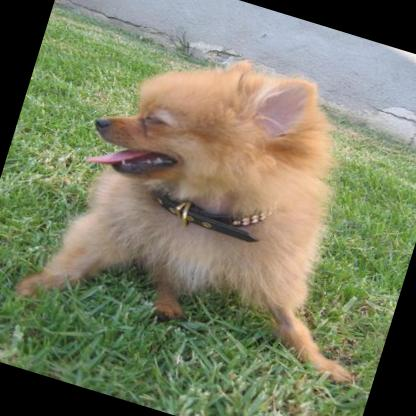Pomeranian: (11, 13, 416, 399)
